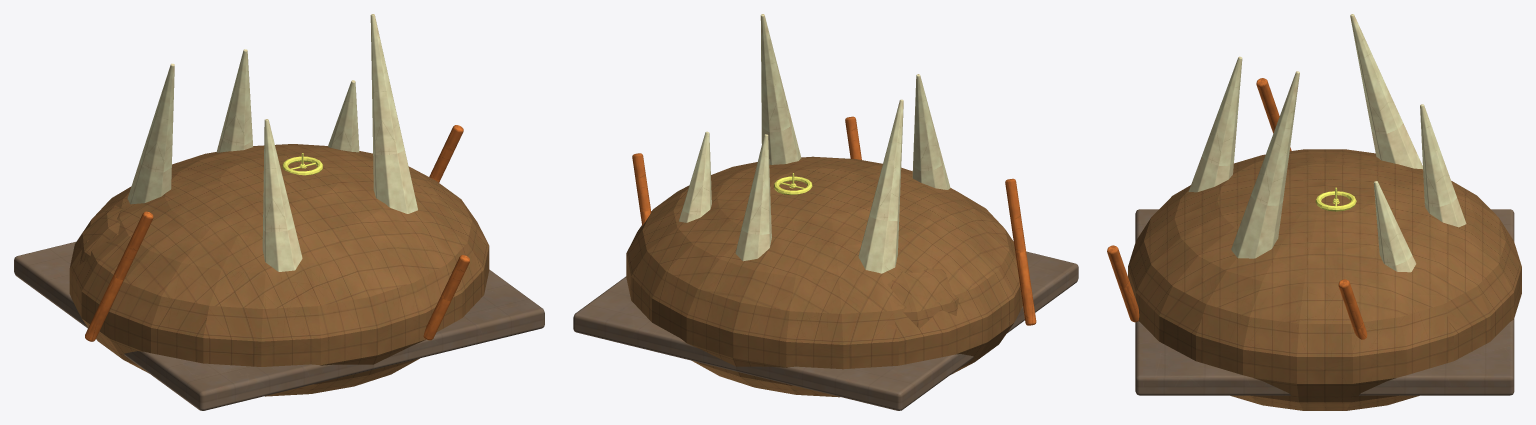
File: ff-nest.glb
3 renders of one model, left to right at view 1: azimuth 30°, elevation 25°; view 2: azimuth 150°, elevation 25°; view 3: azimuth 270°, elevation 25°, orthographic. The views are drawn at different scales.
Visible parts, largest first — view 1: Mound, NestSpike, Rim, Bolt, MoundLobe, ValveGland; view 2: Mound, NestSpike, Rim, Bolt, MoundLobe, ValveGland; view 3: Mound, NestSpike, Rim, Bolt, ValveGland.
Part boxes in pixels (left/top/right/bottom): Mound: left=69, top=144, right=489, bottom=396; NestSpike: left=127, top=14, right=417, bottom=271; Rim: left=14, top=242, right=544, bottom=410; Bolt: left=85, top=125, right=469, bottom=341; MoundLobe: left=77, top=205, right=126, bottom=264; ValveGland: left=282, top=153, right=322, bottom=175; Mound: left=626, top=156, right=1022, bottom=397; NestSpike: left=679, top=14, right=950, bottom=273; Rim: left=573, top=251, right=1078, bottom=410; Bolt: left=632, top=116, right=1036, bottom=325; MoundLobe: left=887, top=268, right=958, bottom=328; ValveGland: left=774, top=173, right=812, bottom=195; Mound: left=1128, top=149, right=1521, bottom=410; NestSpike: left=1188, top=14, right=1466, bottom=272; Rim: left=1135, top=209, right=1514, bottom=395; Bolt: left=1107, top=78, right=1367, bottom=339; ValveGland: left=1315, top=187, right=1356, bottom=211.
Size of the model in its own units: 2.08 by 1.69 by 1.86.
Materials: 9 (9 with a texture image).
